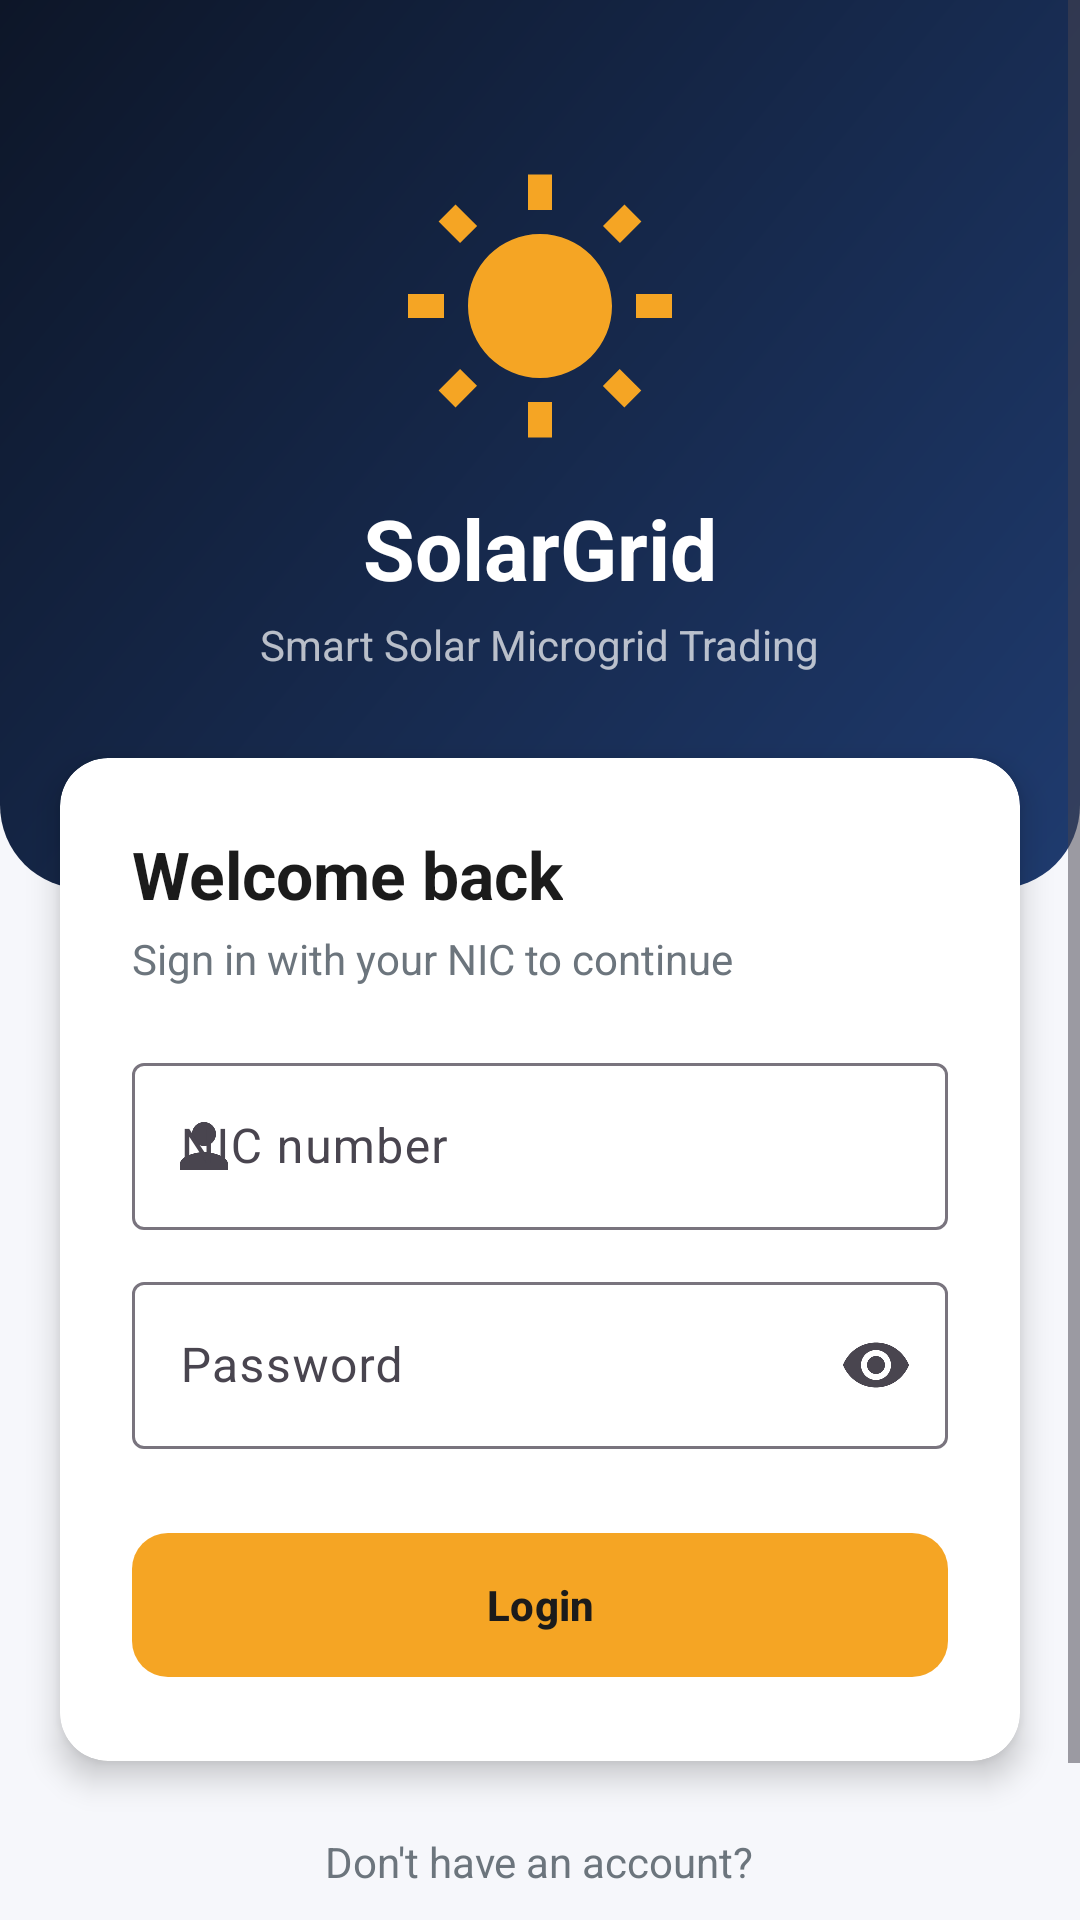

Screen size 1080px x 1920px. Icon name, then its box in pixels as (x1, y1, x2, y2):
sun: (408, 174, 672, 438)
